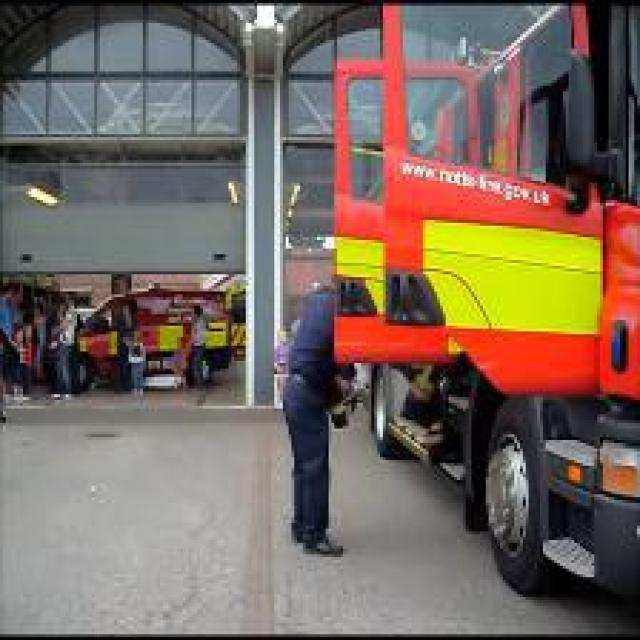other: (324, 179, 624, 391)
